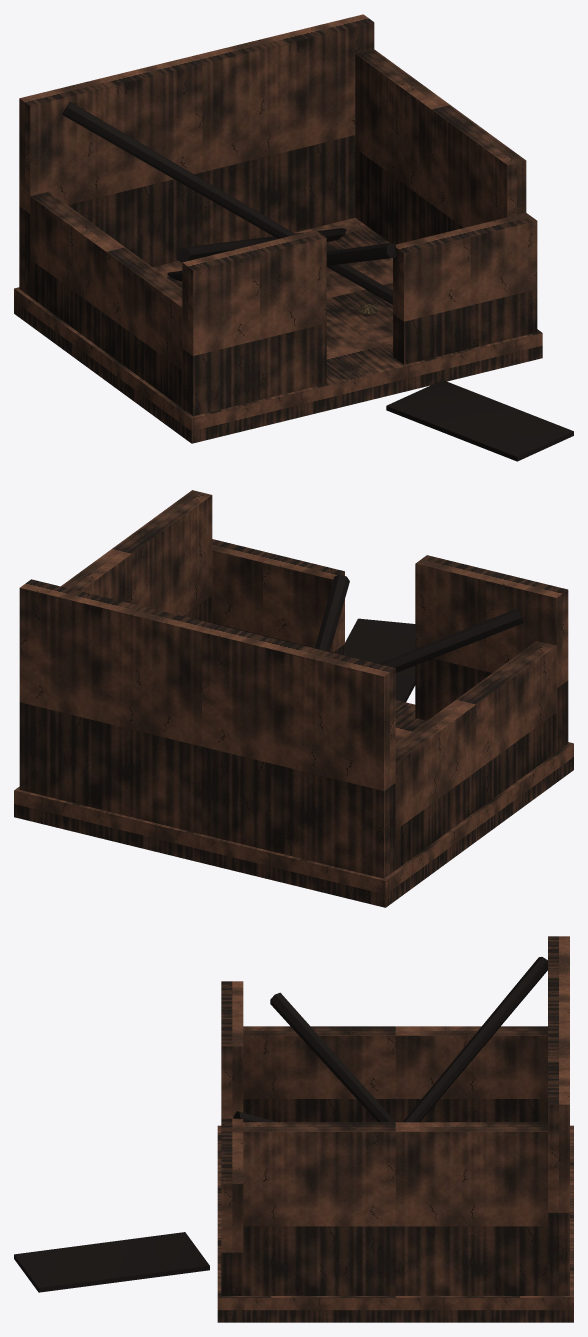
Rendered from az-hut-burnt.glb.
3 renders of one model, top to bottom at view 1: azimuth 30°, elevation 25°; view 2: azimuth 150°, elevation 25°; view 3: azimuth 270°, elevation 25°, orthographic. The views are drawn at different scales.
Visible parts, largest first — view 1: az-hut-burnt_az_banco_burnt, az-hut-burnt_az_char; view 2: az-hut-burnt_az_banco_burnt, az-hut-burnt_az_char; view 3: az-hut-burnt_az_banco_burnt, az-hut-burnt_az_char.
Boxes of the visible parts, x1,y1,x2,y2 form: az-hut-burnt_az_banco_burnt: [14, 14, 542, 443]; az-hut-burnt_az_char: [62, 102, 573, 461]; az-hut-burnt_az_banco_burnt: [14, 490, 573, 907]; az-hut-burnt_az_char: [315, 574, 523, 702]; az-hut-burnt_az_banco_burnt: [217, 936, 573, 1322]; az-hut-burnt_az_char: [14, 957, 547, 1292].
Bounding box in the file's own units: 4.08 × 2.4 × 5.62.
Materials: 3 (2 with a texture image).
